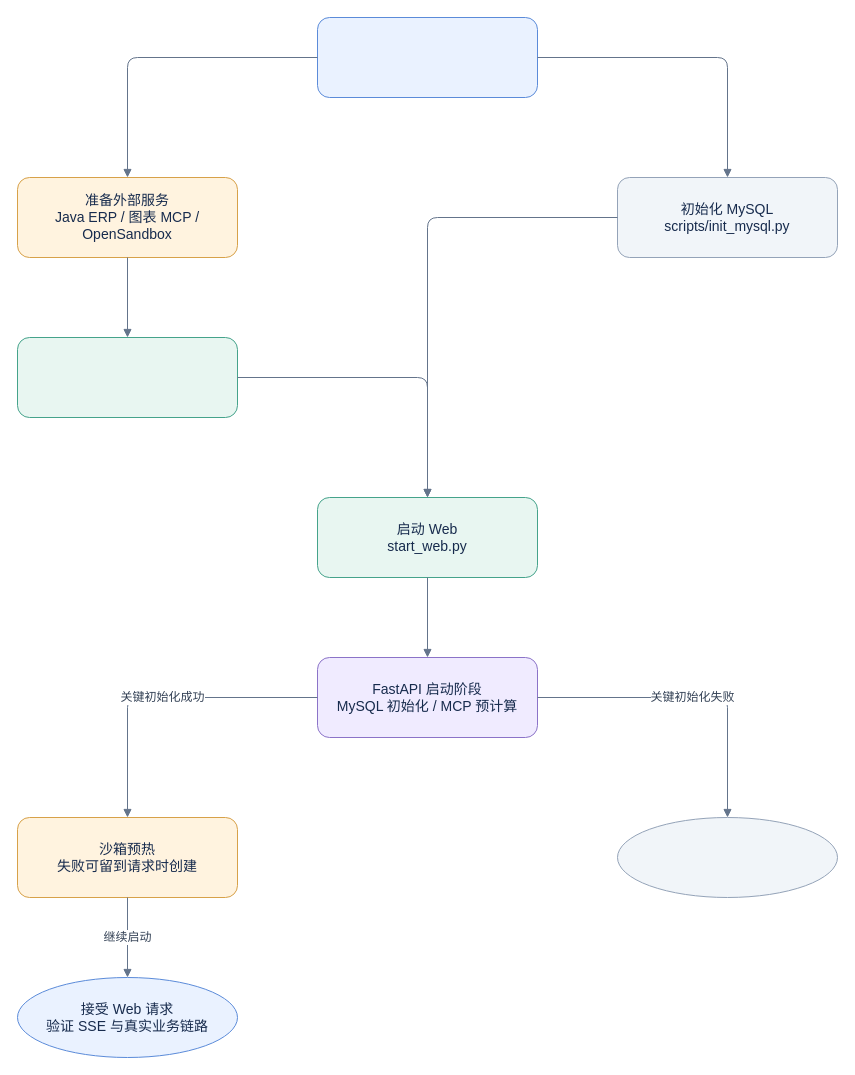
This 855x1075 diagram has some shape labels left out. The shapes that lost their labels are listed below. From the top down, each one's centre as x and y in pixels, then its label:
At (x=427, y=57): "配置环境与依赖 模型 / MySQL / ERP / 沙箱".
At (x=127, y=377): "启动 ERP MCP server_main".
At (x=727, y=857): "启动失败并检查依赖 不降级为内存检查点".
